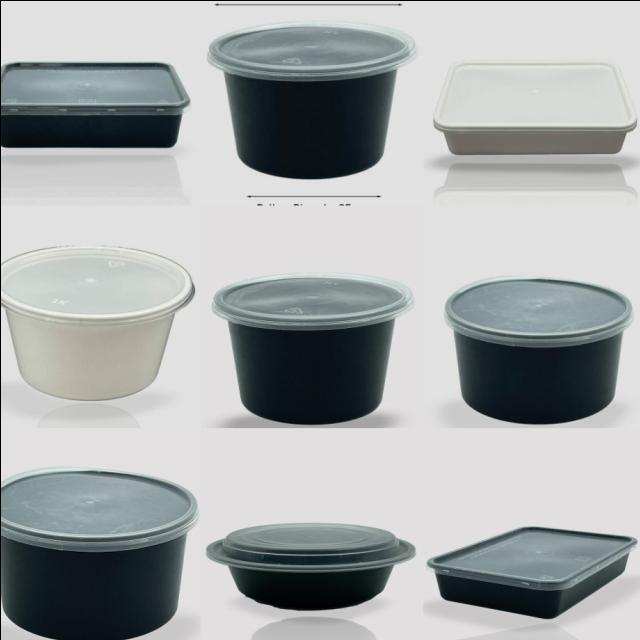plastik: (0, 467, 197, 640), (207, 21, 414, 178), (211, 271, 413, 422), (0, 245, 194, 399), (444, 275, 633, 423), (426, 526, 637, 617), (432, 59, 636, 152), (205, 522, 414, 609), (0, 61, 190, 146)
